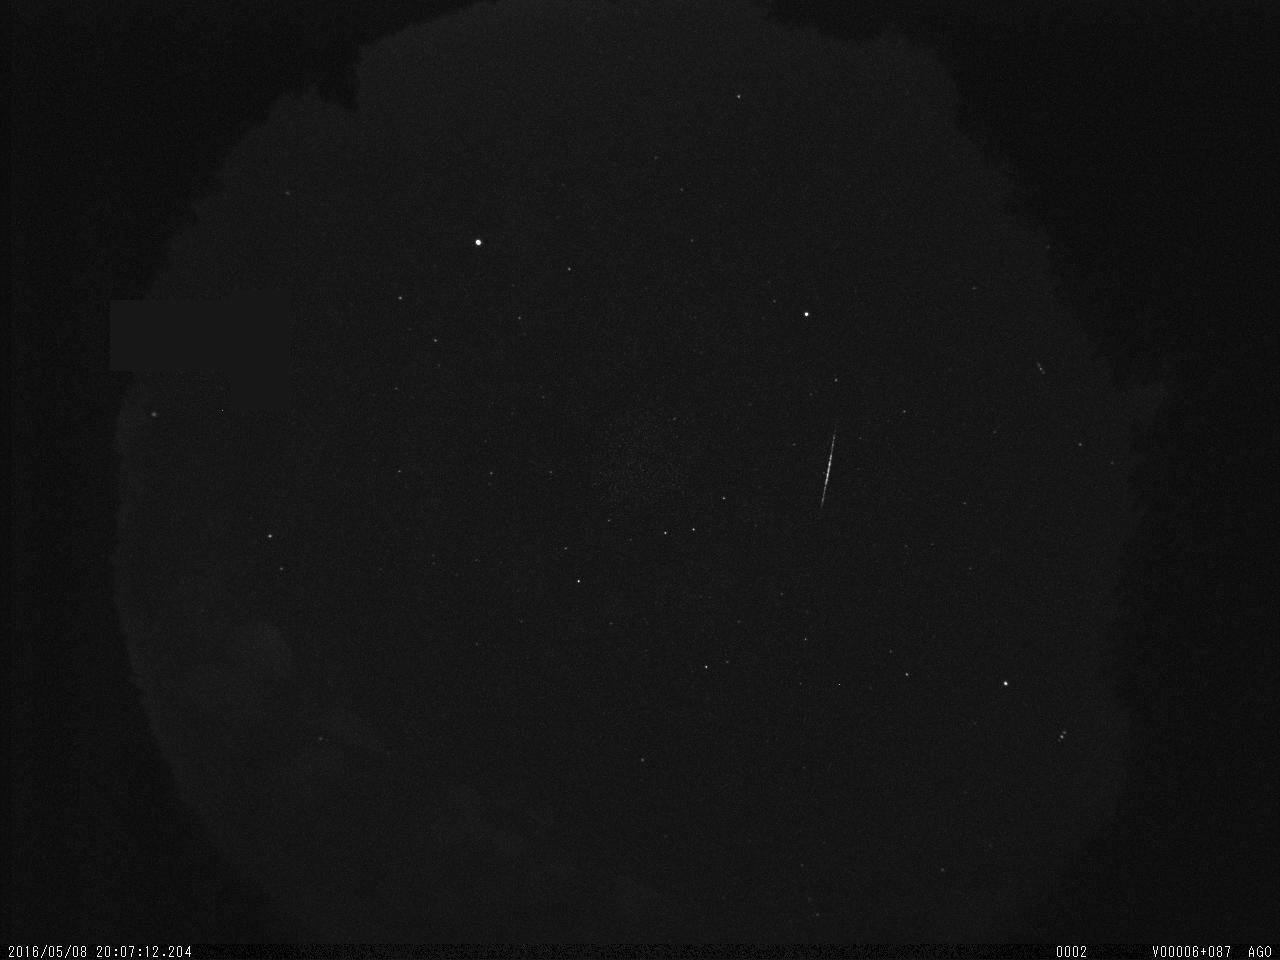meteor: (775, 411, 888, 513)
